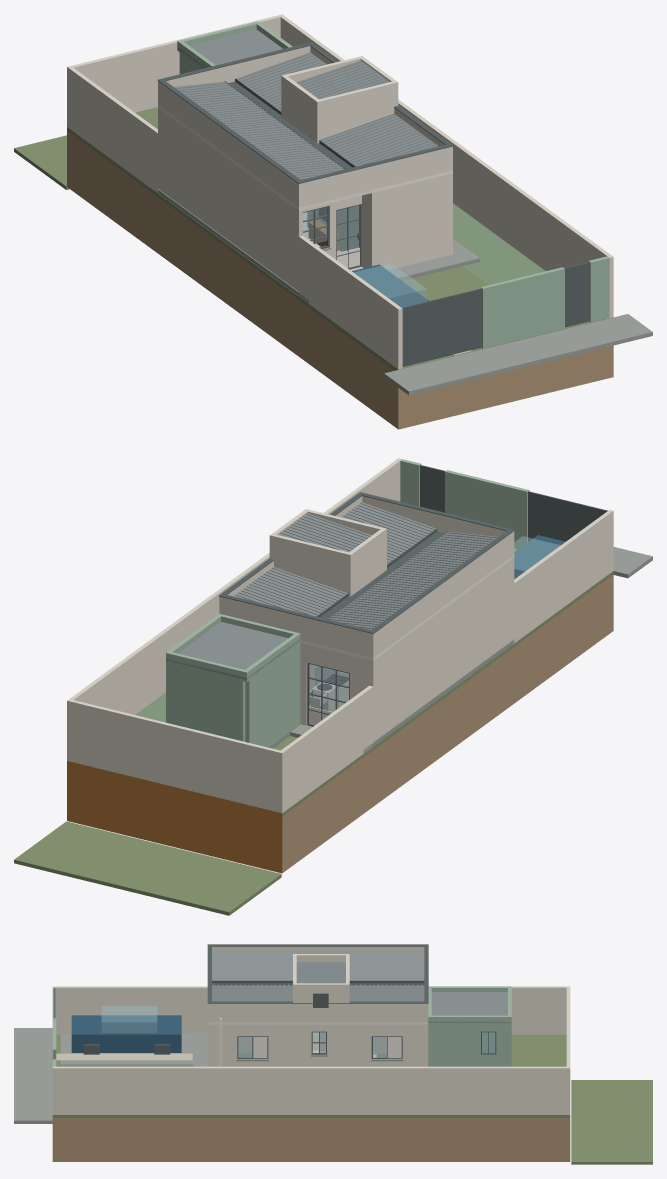
File: casa-bp-opcao-C.glb
3 views of the same model, one above another, from view 1: azimuth 30°, elevation 25°; view 2: azimuth 150°, elevation 25°; view 3: azimuth 270°, elevation 25° (orthographic). The views are drawn at different scales.
Visible parts, largest first — view 1: Solo em corte esquemático — perfil lateral não levantado, Muro lateral na divisa da casa — 2,00 m (×2), Parede cega / divisa do desenho, Muro lateral direito do desenho — 2,00 m, Passeio público — contexto ilustrativo, Terreno 7,50 × 20,00 m — cota plana provisória, Fechamento frontal com acessos sugeridos (×2), Frente dormitório 1, Portão sugerido — posição a confirmar (×2), Platibanda frente / fundo (×2), Muro fundos — 2,00 m sobre terreno, Volume elevado caixa d’água (×2) (+18 smaller); view 2: Solo em corte esquemático — perfil lateral não levantado, Face indicativa de contenção — 2 m estimados; seção e fundaç, Muro fundos — 2,00 m sobre terreno, Muro lateral na divisa da casa — 2,00 m (×2), Referência do nível do vizinho — extensão apenas ilustrativa, Parede cega / divisa do desenho, Muro lateral direito do desenho — 2,00 m, Platibanda frente / fundo (×2), Fechamento frontal com acessos sugeridos (×2), C — fundo novo, Volume elevado caixa d’água (×2), C — lateral esquerda extensão (+18 smaller); view 3: Muro lateral direito do desenho — 2,00 m, Solo em corte esquemático — perfil lateral não levantado, Muro lateral na divisa da casa — 2,00 m (×2), Fachada lateral com janelas (×6), Referência do nível do vizinho — extensão apenas ilustrativa, Platibanda lateral (×2), Pano 1 — social, Carro compacto — referência 1,75 × 4,25 m, Terreno 7,50 × 20,00 m — cota plana provisória, Passeio público — contexto ilustrativo, C — lateral direita extensão (×2), Cobertura proposta — apoios e ligação a calcular (+13 smaller).
Boxes of the visible parts, box(x1,y1,x2,y2) form: Solo em corte esquemático — perfil lateral não levantado: box(67, 131, 613, 429); Muro lateral na divisa da casa — 2,00 m (×2): box(67, 66, 402, 369); Parede cega / divisa do desenho: box(158, 108, 302, 291); Muro lateral direito do desenho — 2,00 m: box(279, 14, 613, 317); Passeio público — contexto ilustrativo: box(384, 314, 652, 395); Terreno 7,50 × 20,00 m — cota plana provisória: box(67, 107, 613, 370); Fechamento frontal com acessos sugeridos (×2): box(480, 256, 609, 348); Frente dormitório 1: box(369, 174, 448, 269); Portão sugerido — posição a confirmar (×2): box(402, 262, 589, 366); Platibanda frente / fundo (×2): box(166, 46, 448, 206); Muro fundos — 2,00 m sobre terreno: box(71, 15, 280, 112); Volume elevado caixa d’água (×2): box(281, 74, 394, 143); Solo em corte esquemático — perfil lateral não levantado: box(282, 574, 613, 872); Face indicativa de contenção — 2 m estimados; seção e fundaç: box(67, 761, 282, 873); Muro fundos — 2,00 m sobre terreno: box(71, 700, 280, 812); Muro lateral na divisa da casa — 2,00 m (×2): box(278, 510, 613, 813); Referência do nível do vizinho — extensão apenas ilustrativa: box(14, 821, 281, 915); Parede cega / divisa do desenho: box(369, 558, 514, 741); Muro lateral direito do desenho — 2,00 m: box(67, 458, 401, 761); Platibanda frente / fundo (×2): box(223, 496, 506, 656); Fechamento frontal com acessos sugeridos (×2): box(400, 459, 529, 549); C — fundo novo: box(170, 663, 245, 741); Volume elevado caixa d’água (×2): box(274, 527, 386, 596); C — lateral esquerda extensão: box(245, 643, 300, 747); Muro lateral direito do desenho — 2,00 m: box(52, 1066, 570, 1114); Solo em corte esquemático — perfil lateral não levantado: box(52, 1118, 570, 1161); Muro lateral na divisa da casa — 2,00 m (×2): box(52, 986, 570, 1034); Fachada lateral com janelas (×6): box(208, 1024, 428, 1066); Referência do nível do vizinho — extensão apenas ilustrativa: box(571, 1080, 652, 1164); Platibanda lateral (×2): box(208, 946, 428, 1022); Pano 1 — social: box(212, 951, 424, 980); Carro compacto — referência 1,75 × 4,25 m: box(71, 1015, 181, 1052); Terreno 7,50 × 20,00 m — cota plana provisória: box(52, 1034, 570, 1117); Passeio público — contexto ilustrativo: box(14, 1028, 52, 1123); C — lateral direita extensão (×2): box(428, 1024, 511, 1066); Cobertura proposta — apoios e ligação a calcular: box(428, 992, 511, 1023).
Size of the model in its own units: 8.5 by 6.68 by 24.7.
